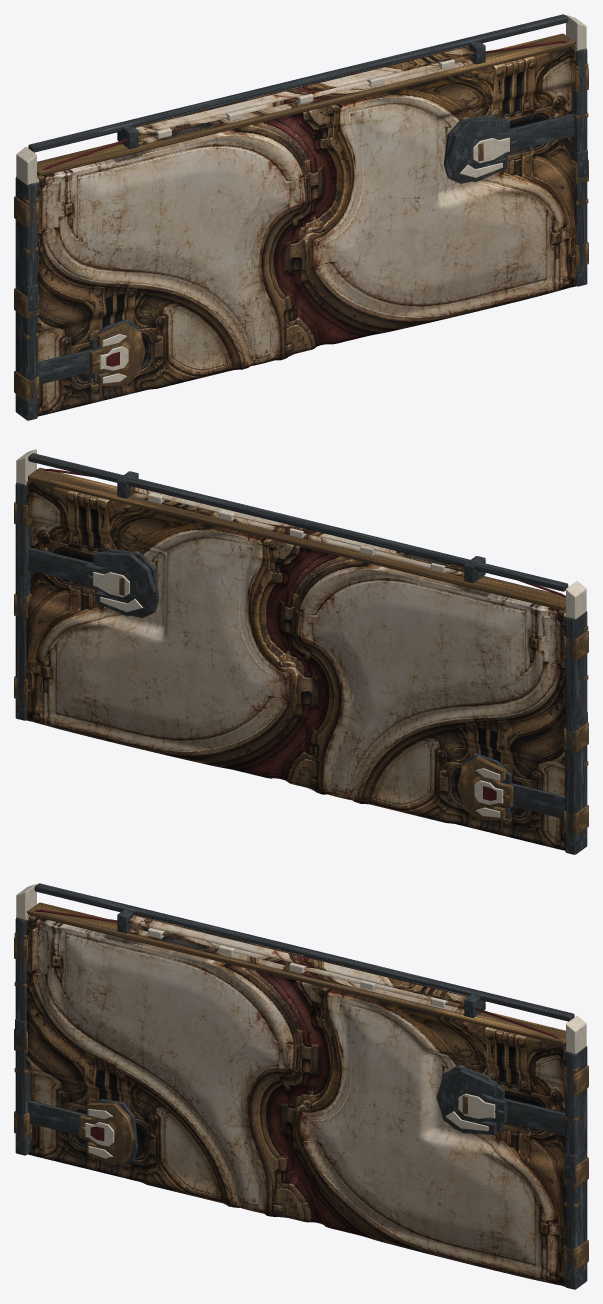
The model's file is heart_threshold.glb.
3 views of the same model, one above another, from view 1: azimuth 30°, elevation 25°; view 2: azimuth 150°, elevation 25°; view 3: azimuth 330°, elevation 25° (orthographic).
Parts seen in each view (by area): view 1: MovingLeaf_Visual, StationaryFrame_Visual, ReleasedClosure_Visual, IvoryLatch_Visual, BloodLatch_Visual; view 2: MovingLeaf_Visual, StationaryFrame_Visual, ReleasedClosure_Visual, IvoryLatch_Visual, BloodLatch_Visual; view 3: MovingLeaf_Visual, StationaryFrame_Visual, ReleasedClosure_Visual, IvoryLatch_Visual, BloodLatch_Visual.
Part boxes in pixels (left/top/right/bottom): MovingLeaf_Visual: left=37, top=46, right=576, bottom=416; StationaryFrame_Visual: left=14, top=14, right=588, bottom=420; ReleasedClosure_Visual: left=121, top=45, right=474, bottom=145; IvoryLatch_Visual: left=467, top=130, right=517, bottom=166; BloodLatch_Visual: left=89, top=342, right=132, bottom=373; MovingLeaf_Visual: left=26, top=480, right=565, bottom=850; StationaryFrame_Visual: left=14, top=449, right=588, bottom=854; ReleasedClosure_Visual: left=127, top=486, right=482, bottom=577; IvoryLatch_Visual: left=85, top=564, right=135, bottom=601; BloodLatch_Visual: left=470, top=776, right=513, bottom=807; MovingLeaf_Visual: left=26, top=915, right=565, bottom=1286; StationaryFrame_Visual: left=14, top=883, right=588, bottom=1289; ReleasedClosure_Visual: left=128, top=914, right=484, bottom=1016; IvoryLatch_Visual: left=453, top=1089, right=507, bottom=1122; BloodLatch_Visual: left=79, top=1115, right=118, bottom=1150.
Bounding box in the file's own units: 12.34 × 5.56 × 0.6.
5 materials, 5 textured.
